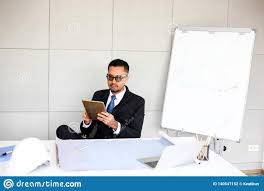Indian_Male: (104, 58, 128, 94)
